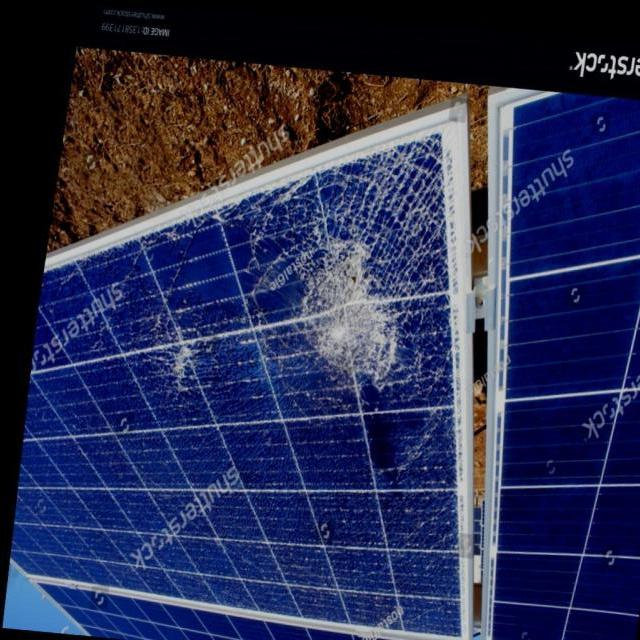cracked: (3, 98, 464, 632)
